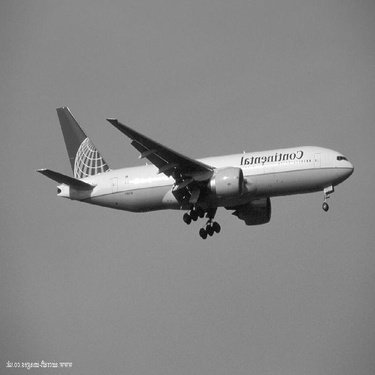airplane: (18, 80, 362, 232)
